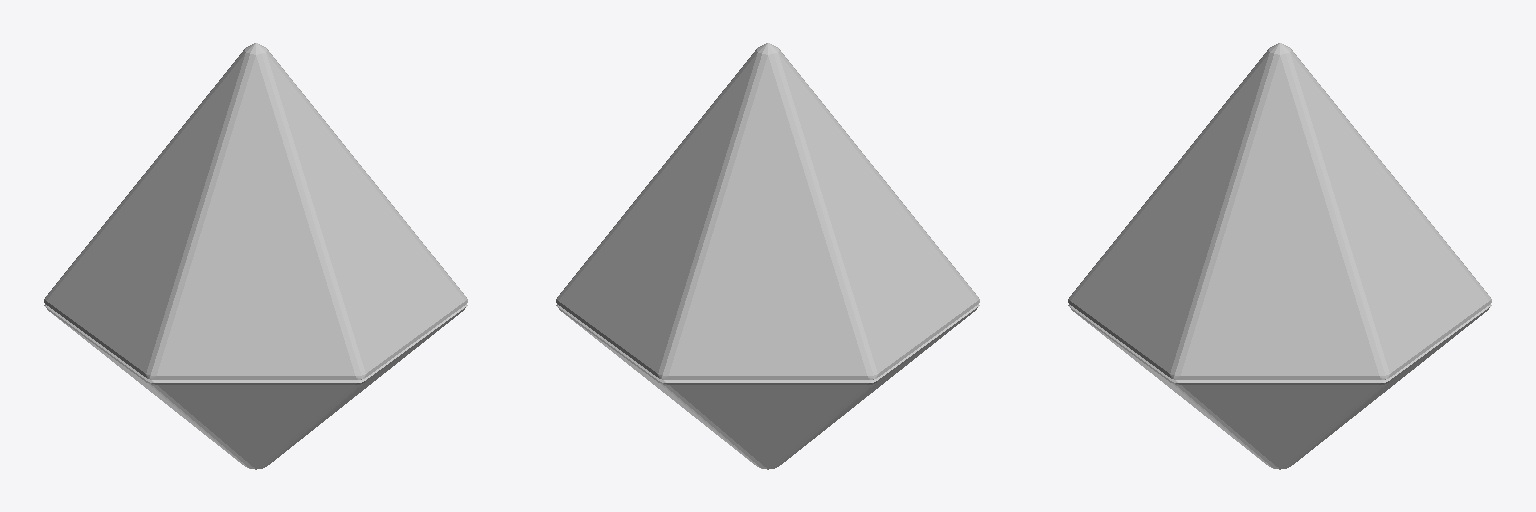
The model's file is gem_type_6.obj.
3 renders of one model, left to right at view 1: azimuth 30°, elevation 25°; view 2: azimuth 150°, elevation 25°; view 3: azimuth 270°, elevation 25°, orthographic.
Parts seen in each view (by area): view 1: gem_type_6; view 2: gem_type_6; view 3: gem_type_6.
Part boxes in pixels (left/top/right/bottom): gem_type_6: left=44, top=43, right=467, bottom=469; gem_type_6: left=556, top=43, right=979, bottom=469; gem_type_6: left=1068, top=43, right=1491, bottom=469.
Size of the model in its own units: 0.6816 by 0.8682 by 0.7826.